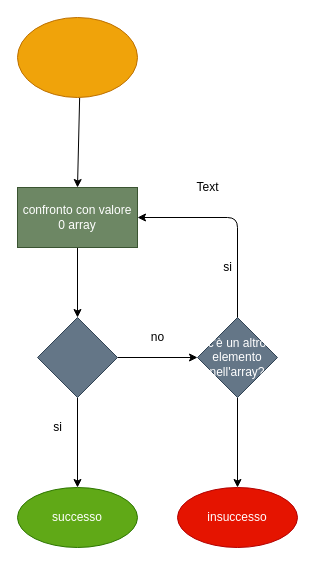
This 315x565 diagram has some shape labels left out. The box of each missing label's shape, as (x1, y1, x2, y2) in pixels:
c'è corrispondenza ?: (36, 316, 118, 398)
input mail: (16, 16, 138, 98)
